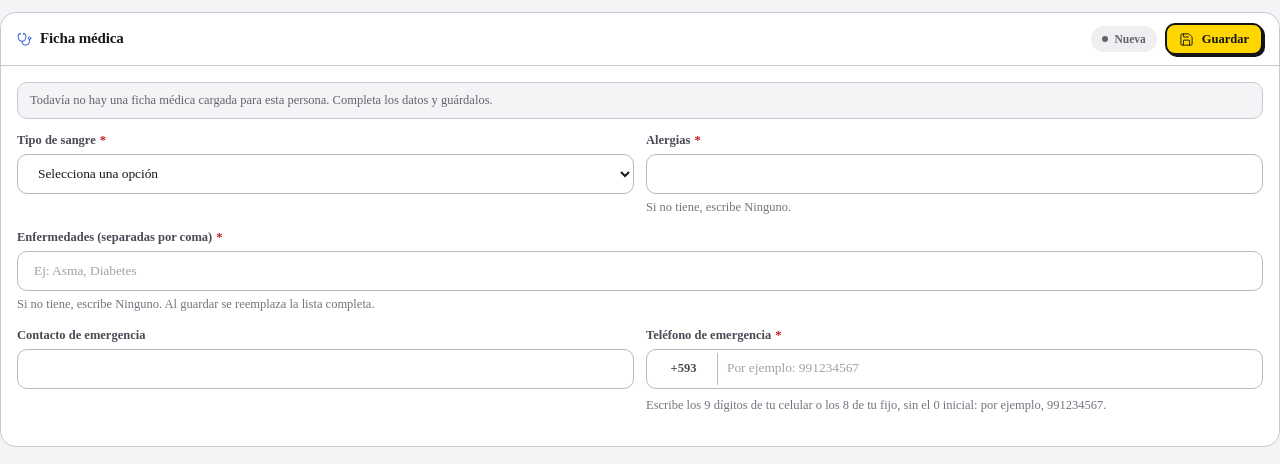
it: MedicalRecordEditor emergency phone (#643) › refuses to save with a blank emergency phone
Select "O POSITIVO" in the dropdown labelled "Tipo de sangre". click: (326, 174)
box: [17,154,634,194]
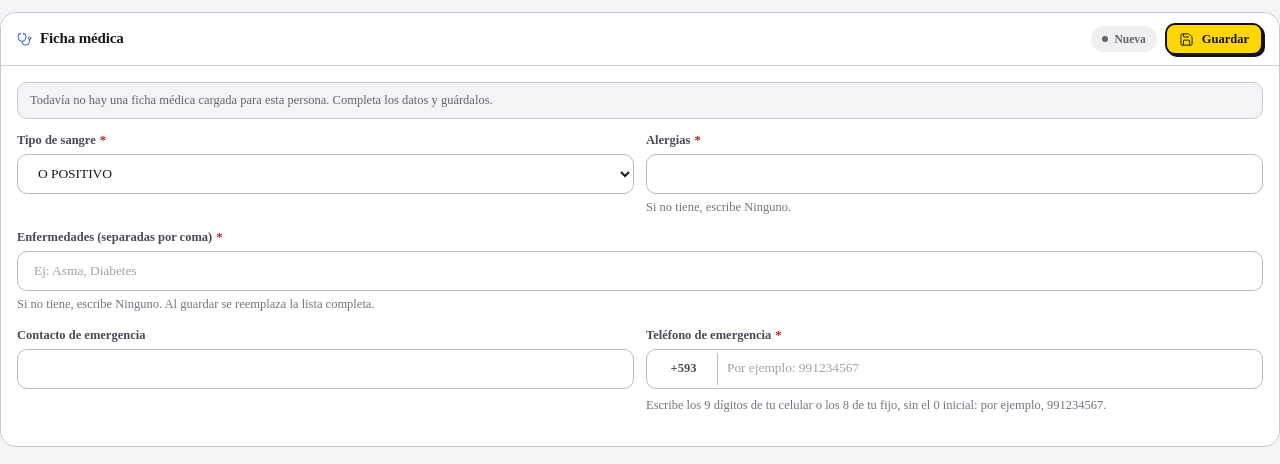
Type "Ninguno" into the field labelled "Alergias". click: (954, 174)
box: [646,154,1263,194]
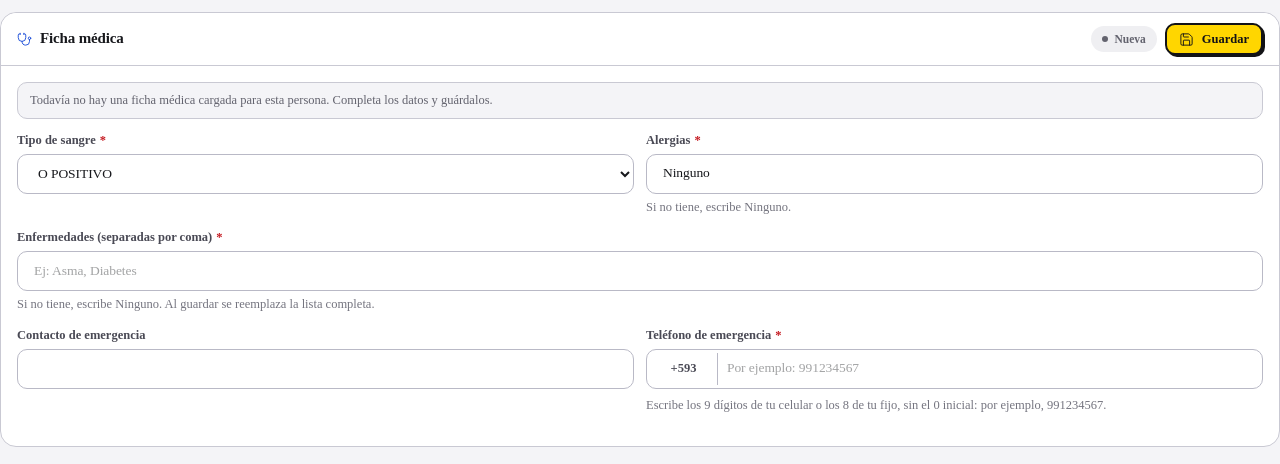
Type "Ninguno" into the field labelled "Enfermedades (separadas por coma)". click: (640, 271)
box: [17,251,1263,291]
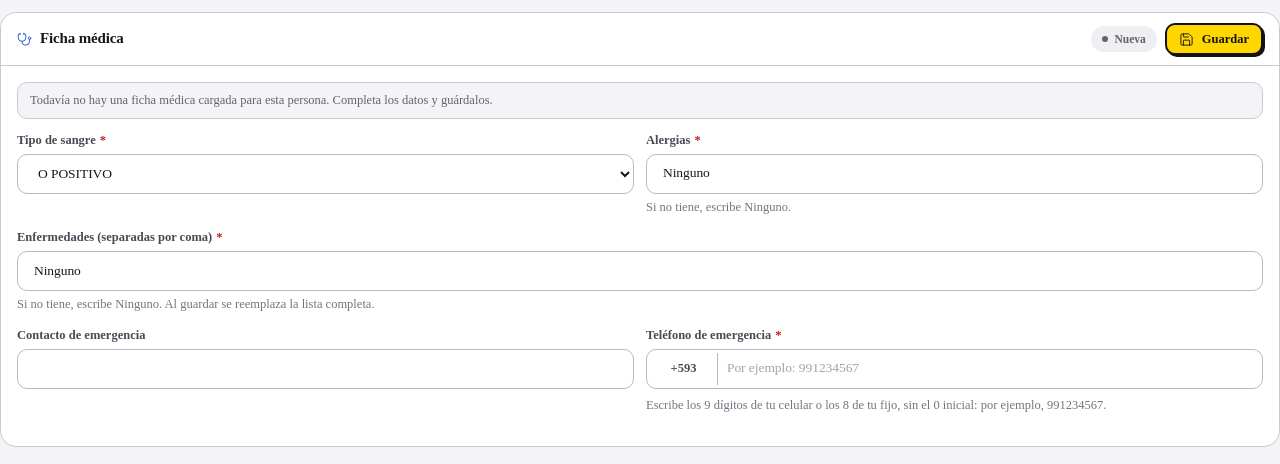
Click the button "Guardar". click: (1214, 39)
box: [1165,23,1263,55]
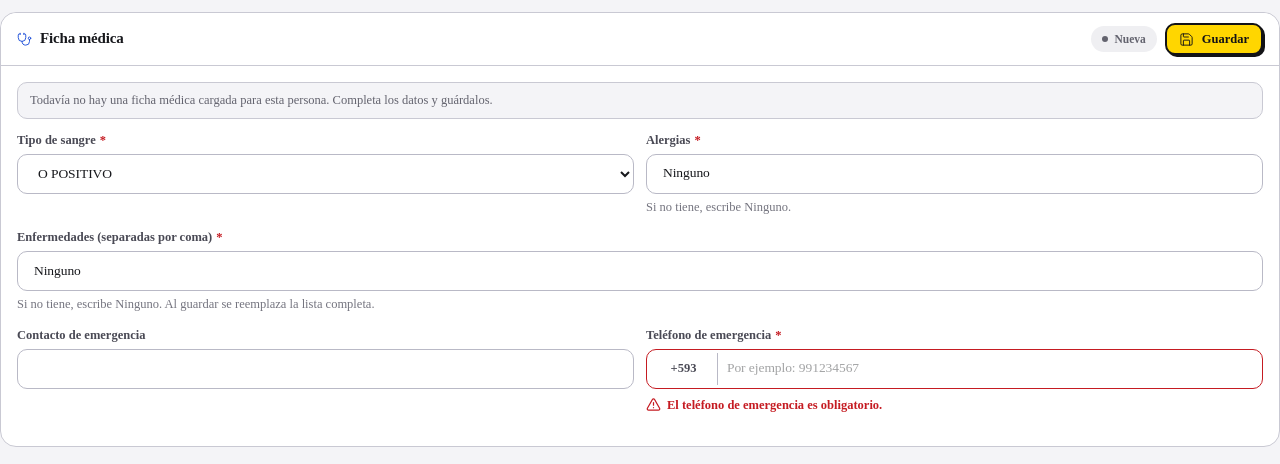
Expected: the text "El teléfono de emergencia es obligatorio." is shown, [646,397,882,412]
